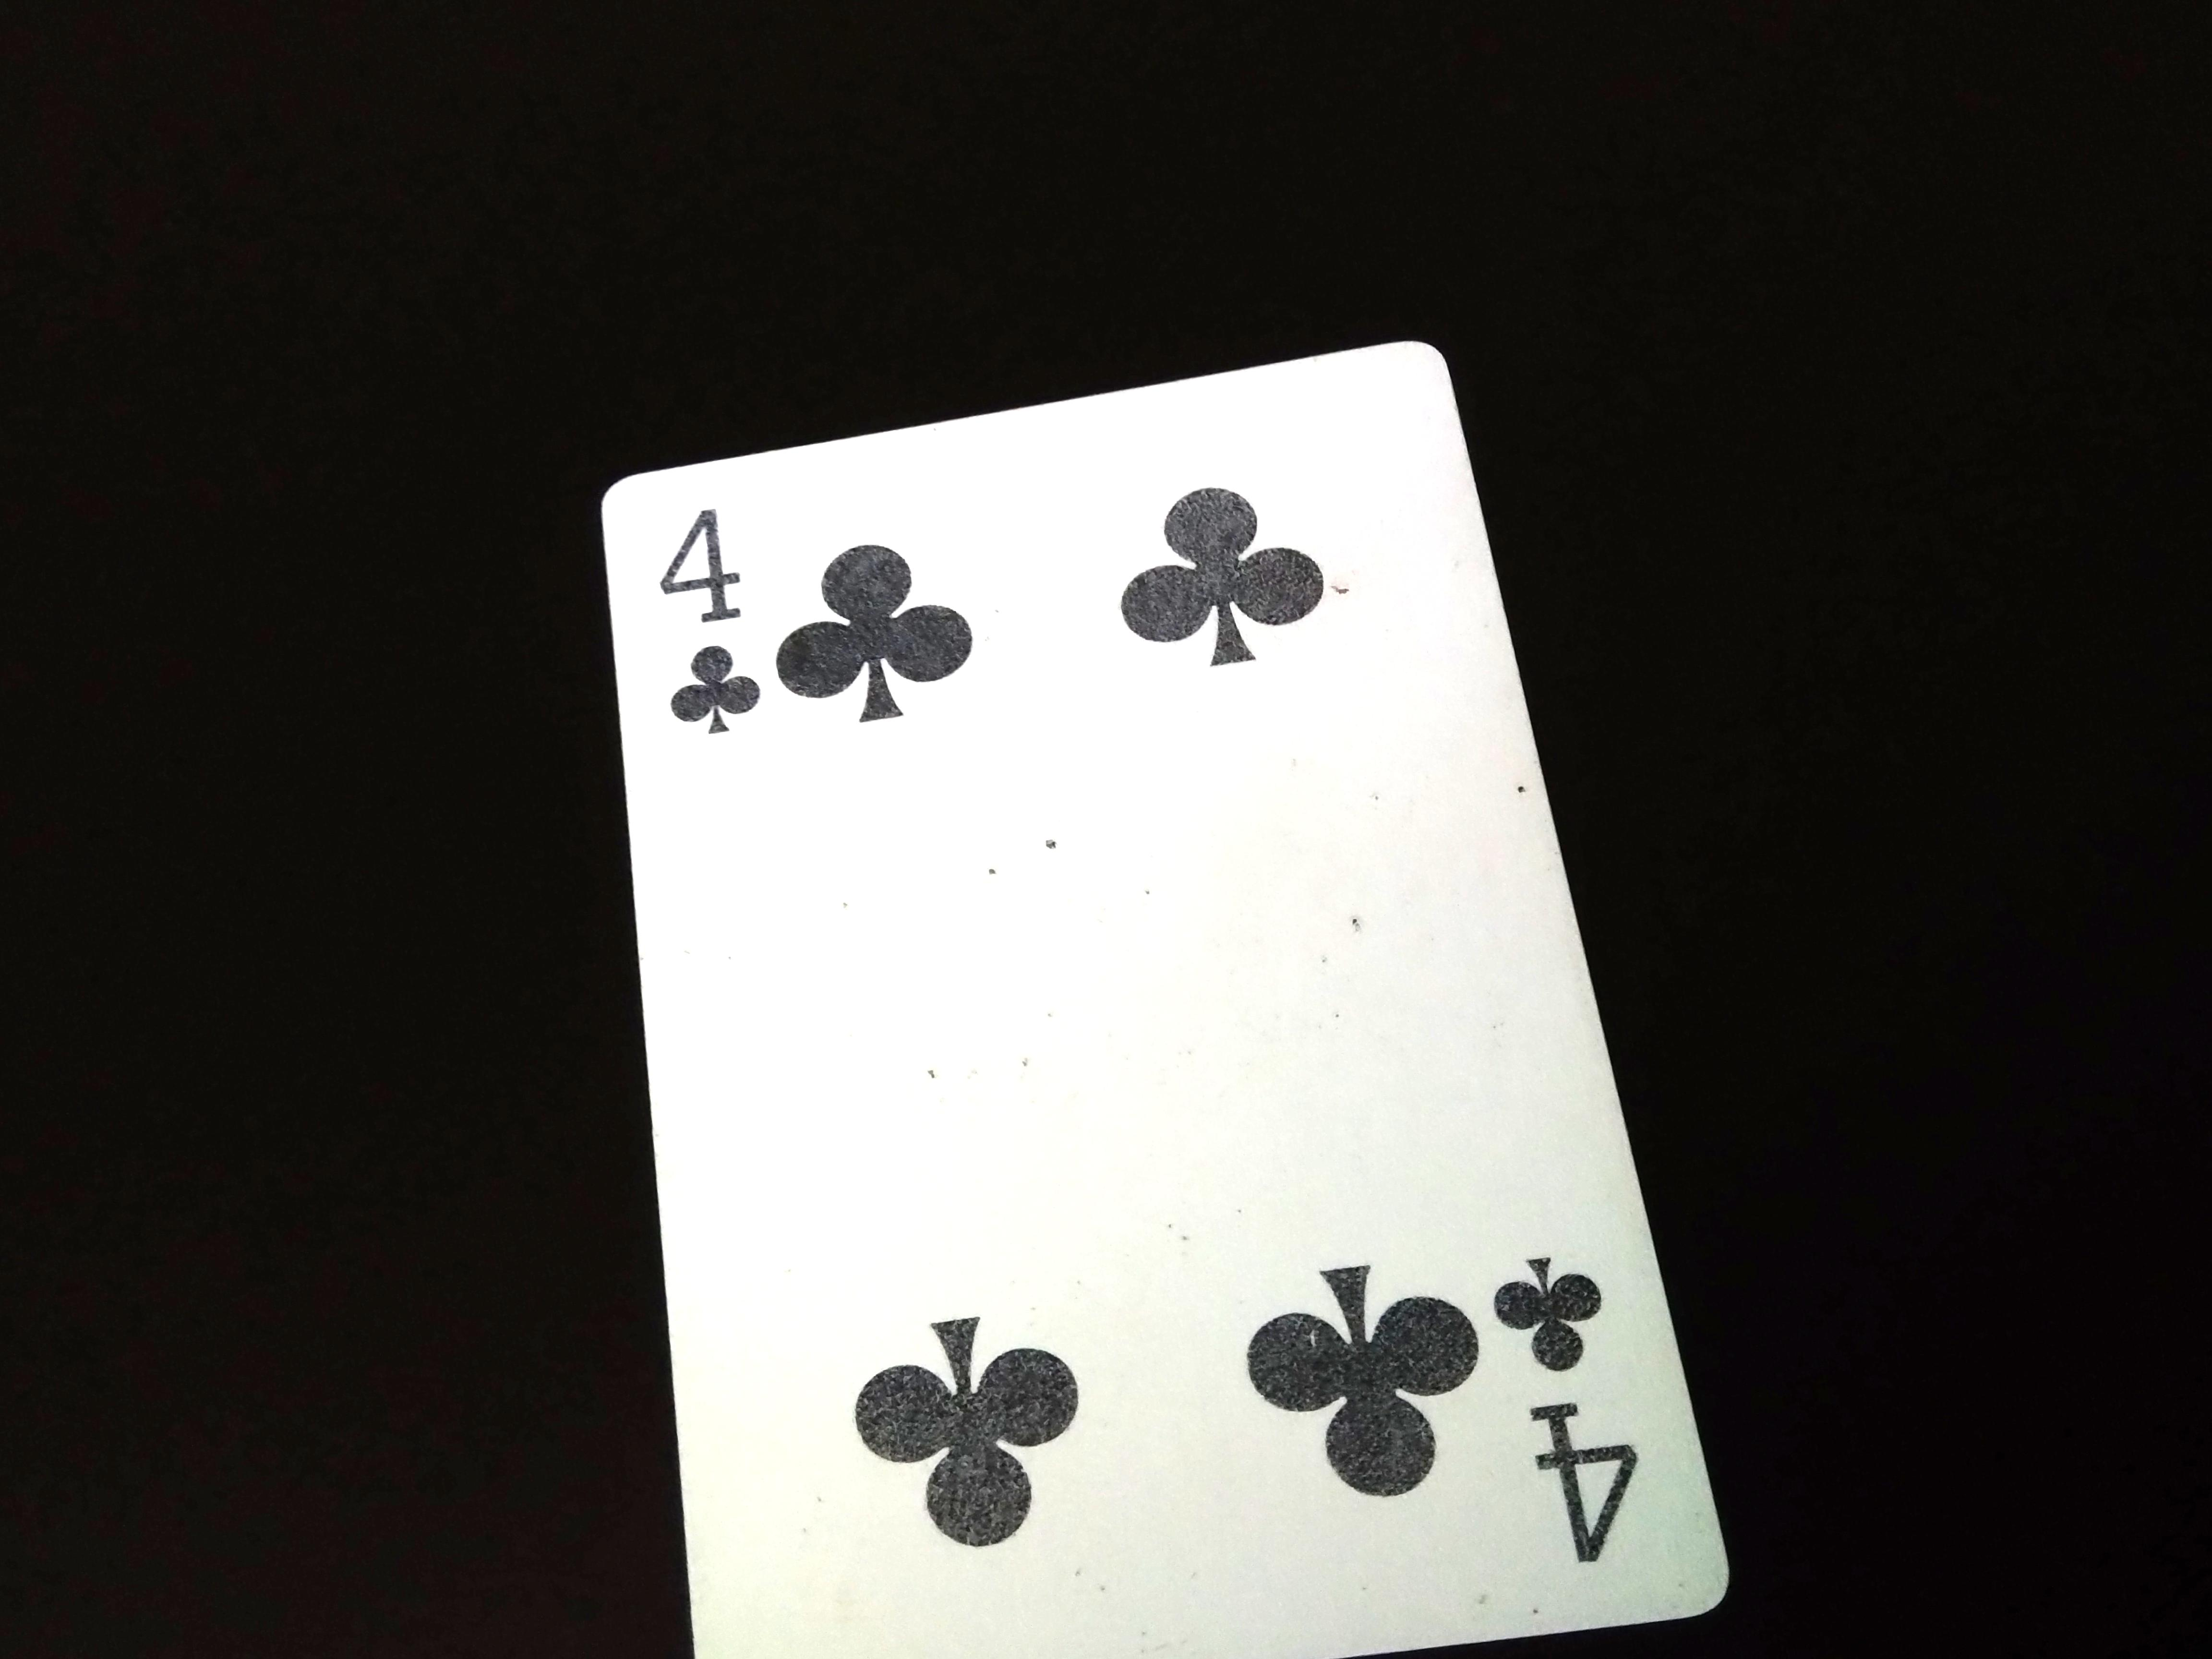4C: (665, 504, 765, 774)
